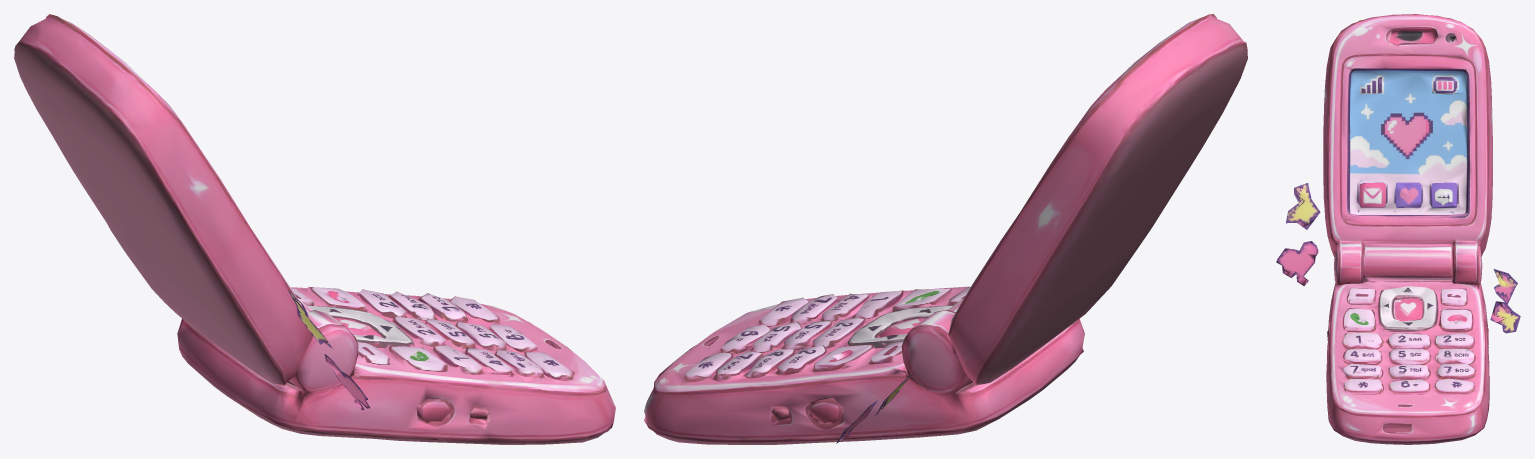
Rendered from free_-_pink_retro_flip_phone_3d_model.glb.
3 renders of one model, left to right at view 1: azimuth 30°, elevation 25°; view 2: azimuth 150°, elevation 25°; view 3: azimuth 270°, elevation 25°, orthographic. The views are drawn at different scales.
Parts seen in each view (by area): view 1: tripo_node_ff1c0b8c-559c-41ce-b91e-13338e8ee829_0; view 2: tripo_node_ff1c0b8c-559c-41ce-b91e-13338e8ee829_0; view 3: tripo_node_ff1c0b8c-559c-41ce-b91e-13338e8ee829_0.
Part boxes in pixels (<box>): tripo_node_ff1c0b8c-559c-41ce-b91e-13338e8ee829_0: <box>14,14,615,444</box>; tripo_node_ff1c0b8c-559c-41ce-b91e-13338e8ee829_0: <box>644,14,1247,444</box>; tripo_node_ff1c0b8c-559c-41ce-b91e-13338e8ee829_0: <box>1276,14,1520,444</box>.
Bounding box in the file's own units: 1 × 0.8713 × 0.6678.
Materials: 1 (1 with a texture image).
